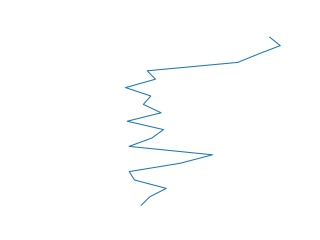crevasseRiverChannelBar: (123, 34, 284, 210)
